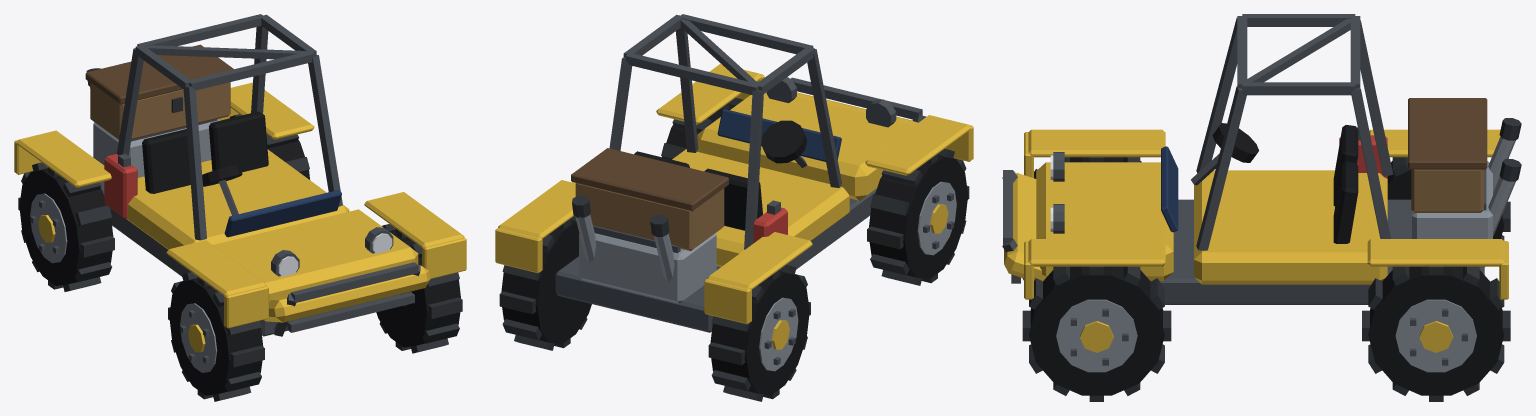
The model's file is buggy.glb.
3 views of the same model, side by side, from view 1: azimuth 30°, elevation 25°; view 2: azimuth 150°, elevation 25°; view 3: azimuth 270°, elevation 25° (orthographic). The views are drawn at different scales.
Parts seen in each view (by area): view 1: pieces_jaune.002, pieces_acier_sombre.006, pieces_noir.004, roue_arg_noir.004, roue_avg_noir.004, pieces_bois.006, pieces_bois_sombre.002, roue_avd_noir.004, roue_arg_fonte.004, pieces_panneau.002, roue_avg_fonte.004, roue_avd_fonte.004 (+7 smaller); view 2: pieces_jaune.002, pieces_acier_sombre.006, pieces_acier.006, roue_avg_noir.004, pieces_bois_sombre.002, roue_arg_noir.004, pieces_bois.006, roue_ard_noir.004, pieces_noir.004, roue_avg_fonte.004, roue_arg_fonte.004, roue_ard_fonte.004 (+9 smaller); view 3: pieces_jaune.002, pieces_acier_sombre.006, roue_avd_noir.004, roue_ard_noir.004, pieces_bois_sombre.002, roue_ard_acier.004, roue_avd_acier.004, pieces_acier.006, pieces_noir.004, pieces_bois.006, roue_ard_fonte.004, roue_avd_fonte.004 (+6 smaller).
Part boxes in pixels (box(x1,y1,x2,y2)): pieces_jaune.002: box(14, 82, 466, 328); pieces_acier_sombre.006: box(100, 14, 420, 336); pieces_noir.004: box(142, 111, 268, 193); roue_arg_noir.004: box(19, 168, 113, 285); roue_avg_noir.004: box(169, 278, 263, 395); pieces_bois.006: box(90, 82, 230, 139); pieces_bois_sombre.002: box(85, 44, 233, 104); roue_avd_noir.004: box(376, 230, 460, 347); roue_arg_fonte.004: box(18, 162, 114, 291); pieces_panneau.002: box(224, 190, 341, 237); roue_avg_fonte.004: box(168, 272, 264, 401); roue_avd_fonte.004: box(379, 224, 462, 353); pieces_jaune.002: box(495, 64, 973, 324); pieces_acier_sombre.006: box(555, 14, 926, 332); pieces_acier.006: box(575, 214, 716, 303); roue_avg_noir.004: box(869, 155, 968, 279); pieces_bois_sombre.002: box(571, 148, 728, 211); roue_arg_noir.004: box(710, 271, 809, 395); pieces_bois.006: box(575, 183, 724, 250); roue_ard_noir.004: box(501, 220, 591, 344); pieces_noir.004: box(634, 120, 807, 230); roue_avg_fonte.004: box(867, 149, 969, 285); roue_arg_fonte.004: box(708, 264, 810, 401); roue_ard_fonte.004: box(499, 216, 587, 350); pieces_jaune.002: box(1004, 129, 1508, 299); pieces_acier_sombre.006: box(1002, 14, 1486, 304); roue_avd_noir.004: box(1029, 266, 1164, 395); roue_ard_noir.004: box(1368, 266, 1503, 395); pieces_bois_sombre.002: box(1408, 98, 1487, 169); roue_ard_acier.004: box(1395, 299, 1476, 372); roue_avd_acier.004: box(1056, 299, 1137, 372); pieces_acier.006: box(1412, 136, 1515, 238); pieces_noir.004: box(1212, 123, 1358, 243); pieces_bois.006: box(1411, 169, 1483, 212); roue_ard_fonte.004: box(1362, 266, 1510, 401); roue_avd_fonte.004: box(1022, 266, 1171, 401).
Size of the model in its own units: 1.67 by 1.67 by 2.73.
